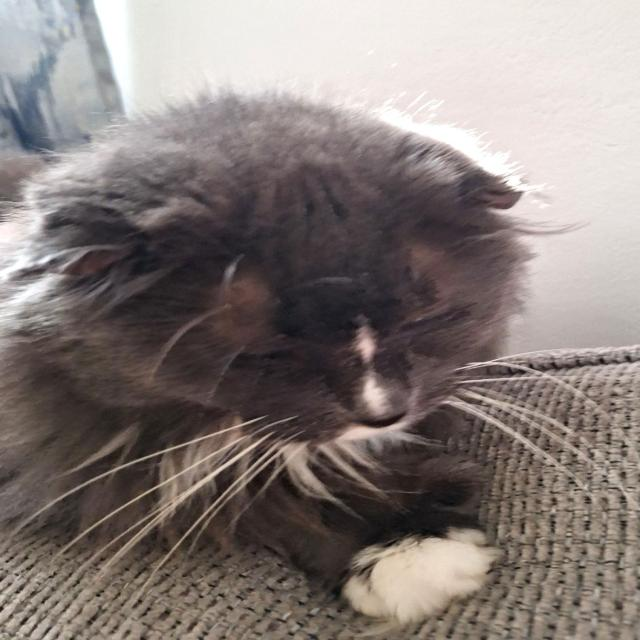maine_coon_cat: (28, 102, 554, 456)
